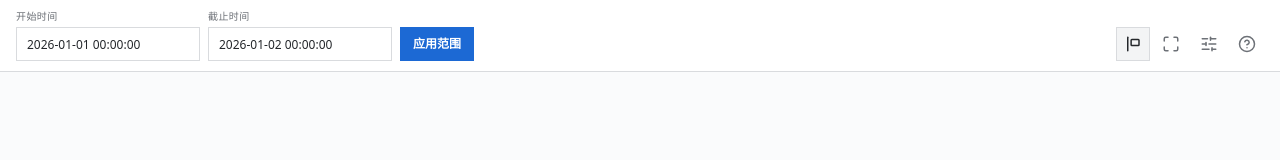
Test: TimeRangeControls › marks a visible range shorter than one minute as invalid
The width and height of the screenshot is (1280, 160).
Replace the text in the field labelled "截止时间" with "2026-01-01T00:00:30". click: (300, 44)
box: 209,28 -> 391,60
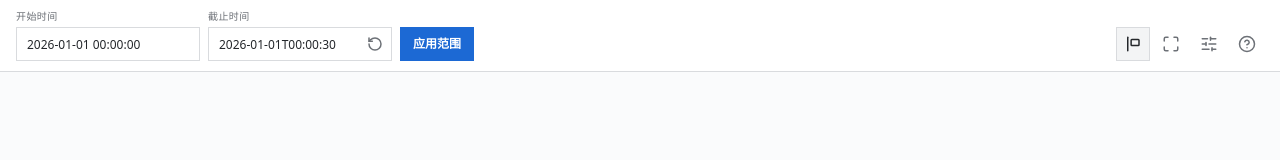
Click the button "应用范围". click: (437, 44)
box: 400,27 -> 474,61
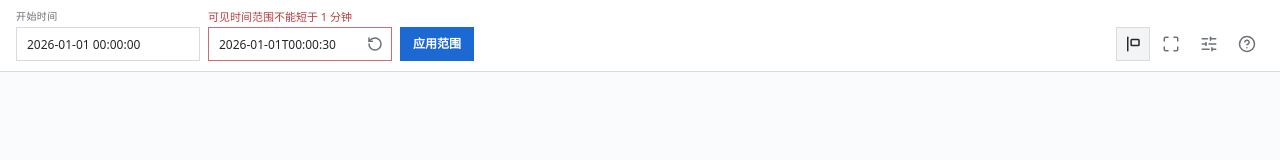
Check: the text "可见时间范围不能短于 1 分钟" is shown, box 208,10 -> 352,23
